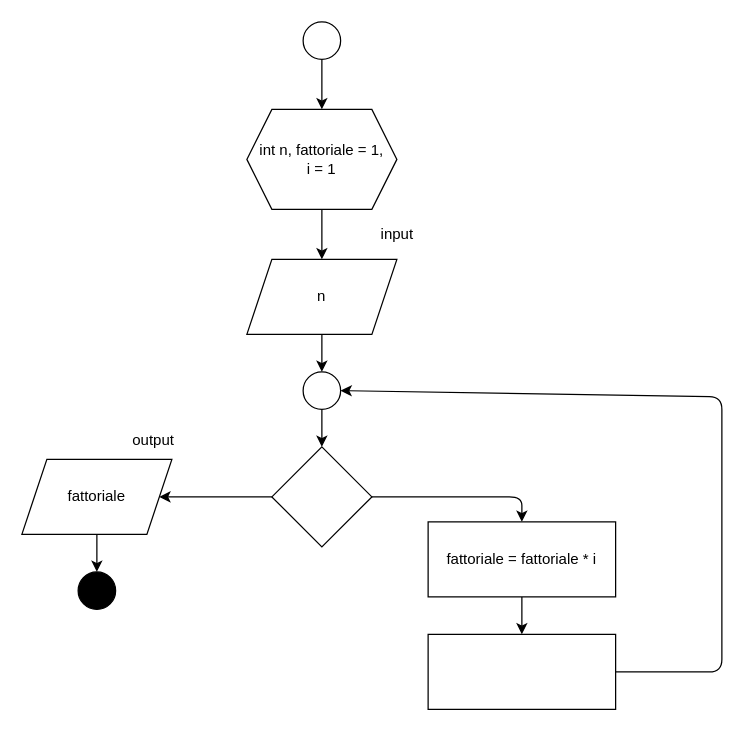
Image size: 754x731. Some labels were removed from this diagram. Here are the shapes that lost their labels. From the top down, the centre of each, then its label:
At [321,496]: "i < n".
At [521,671]: "i++".
